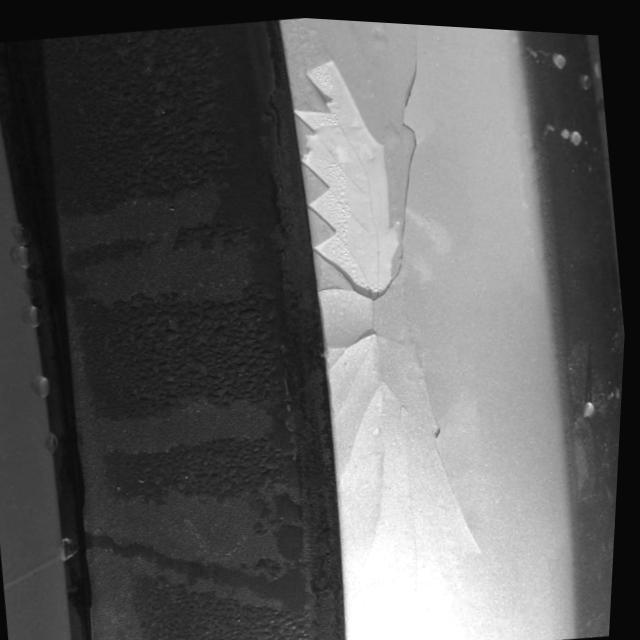Paint-Crack: (289, 42, 486, 600)
